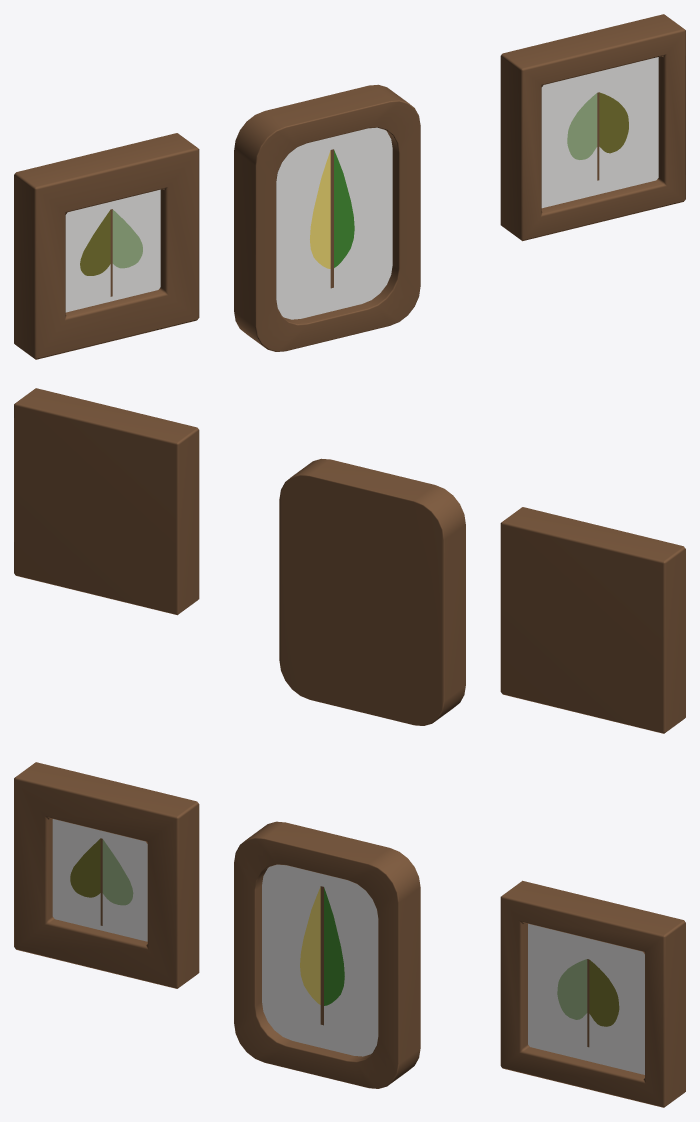
File: marcos y fotos plantas.fbx
3 views of the same model, one above another, from view 1: azimuth 30°, elevation 25°; view 2: azimuth 150°, elevation 25°; view 3: azimuth 330°, elevation 25° (orthographic).
Parts seen in each view (by area): view 1: Painting_2, Painting_3, Painting_1; view 2: Painting_2, Painting_3, Painting_1; view 3: Painting_2, Painting_3, Painting_1.
Part boxes in pixels (<box>): Painting_2: <box>234,84,420,351</box>; Painting_3: <box>500,14,685,241</box>; Painting_1: <box>14,133,199,359</box>; Painting_2: <box>279,458,465,725</box>; Painting_3: <box>14,388,199,615</box>; Painting_1: <box>500,507,685,733</box>; Painting_2: <box>234,821,420,1088</box>; Painting_3: <box>500,880,685,1107</box>; Painting_1: <box>14,762,199,988</box>.
Size of the model in its own units: 222 by 73.26 by 13.15.
1 material, 1 textured.
